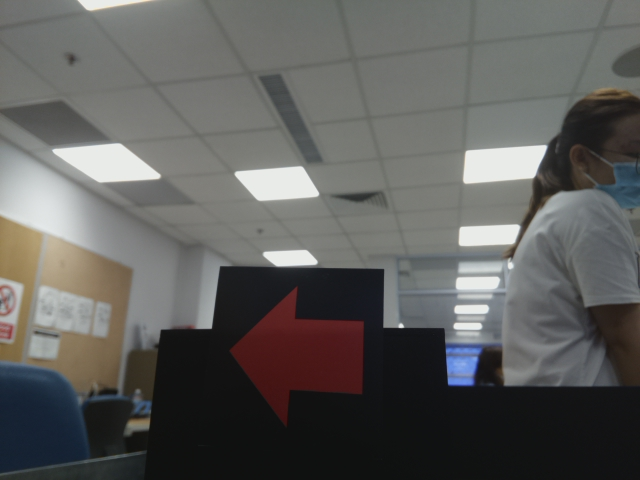left: (224, 282, 368, 424)
